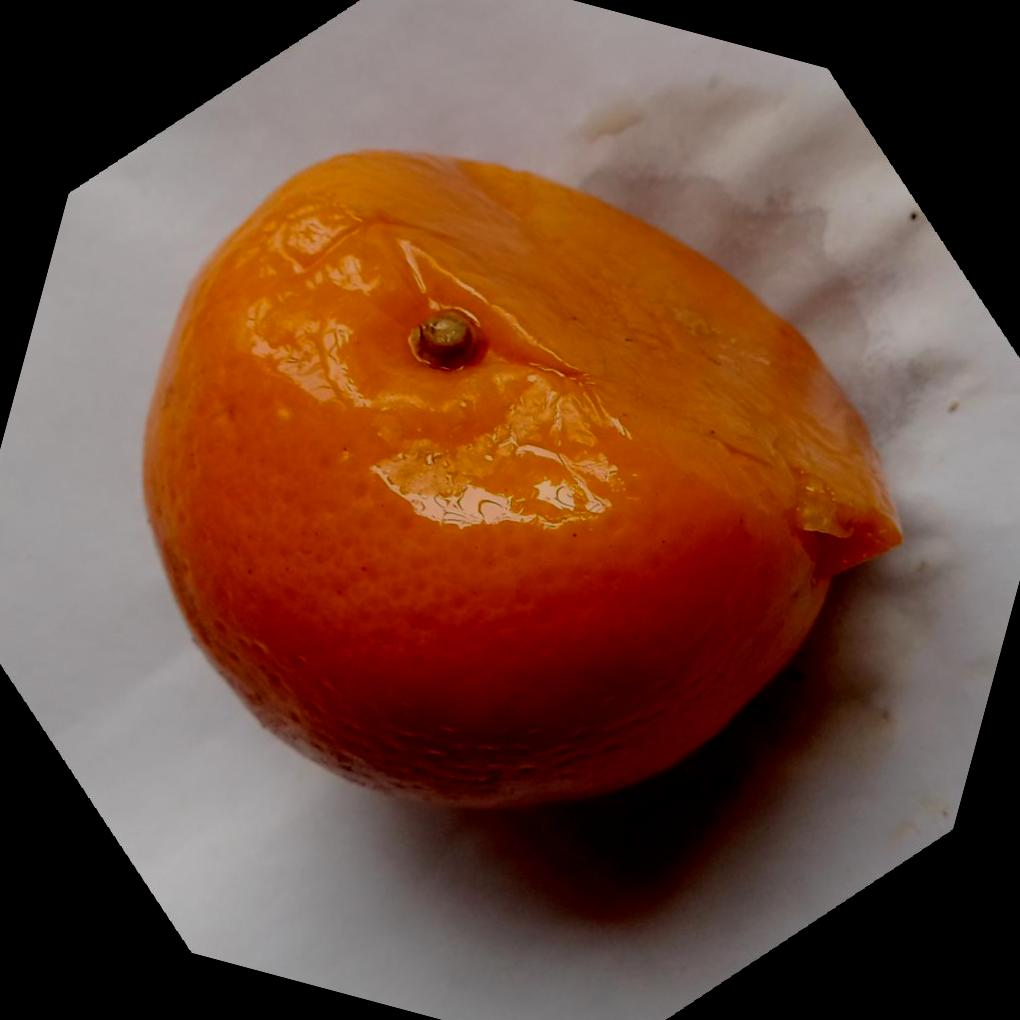FreshOrange: (140, 143, 906, 810)
